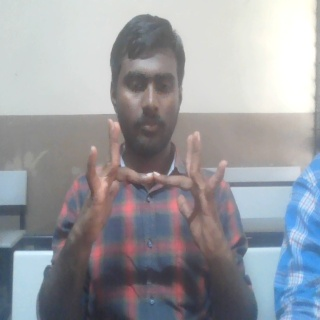Internet: (69, 116, 232, 272)
